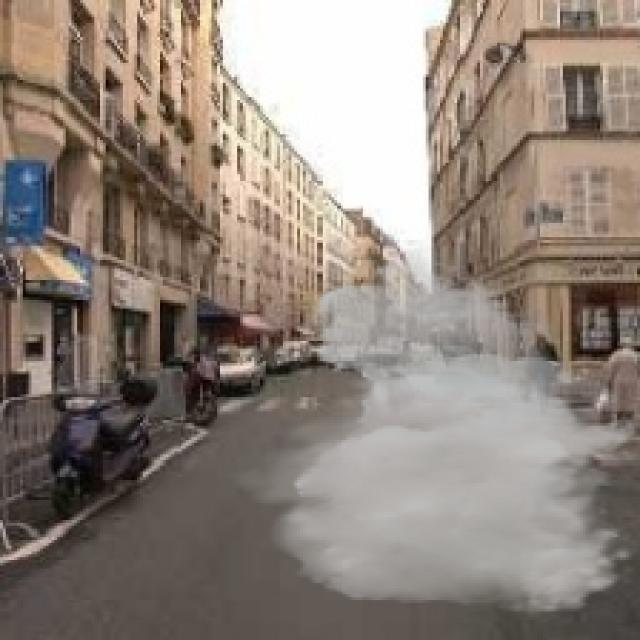Smoke: (225, 237, 638, 617)
